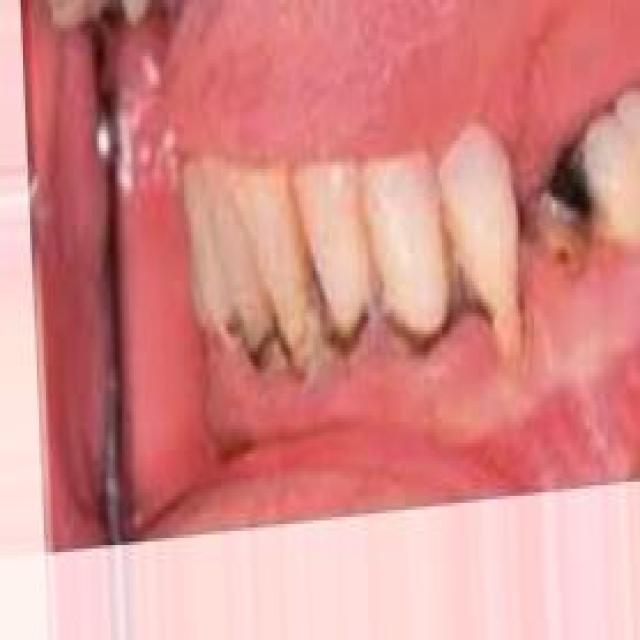caries: (520, 135, 604, 282)
